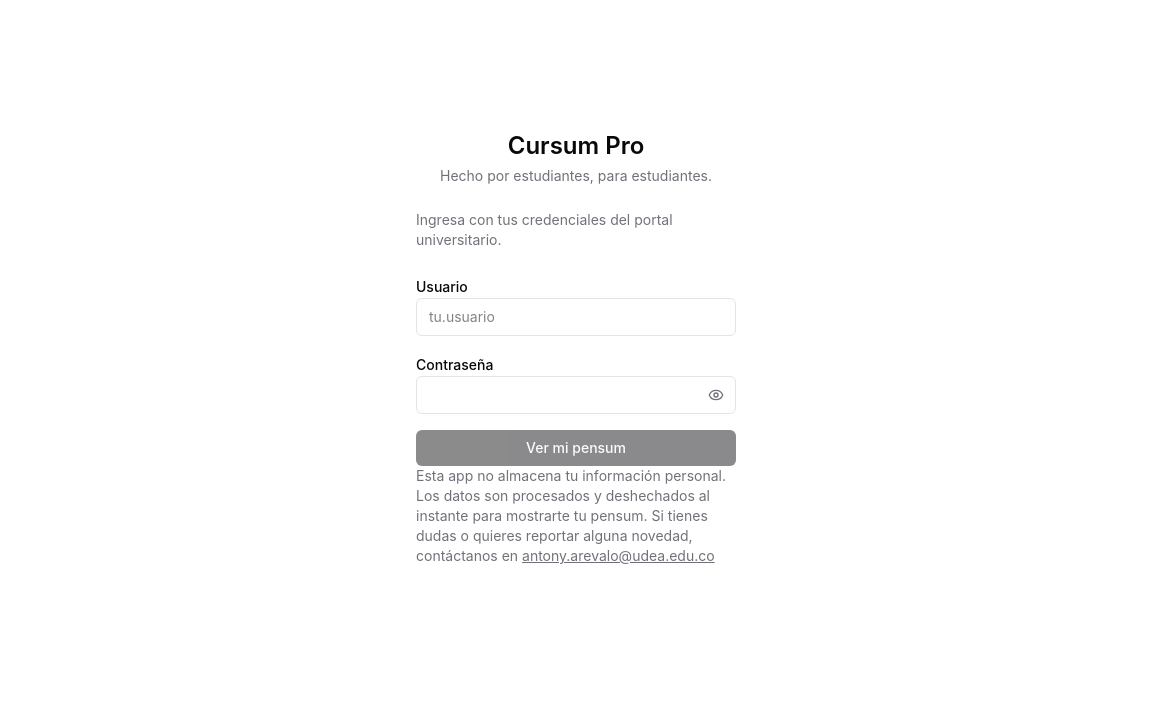
Test case: App › envía las credenciales al endpoint de streaming
The width and height of the screenshot is (1152, 718).
In the field with placeholder "tu.usuario": (576, 317) x1=416 y1=298 x2=736 y2=336, type "ana.prueba"
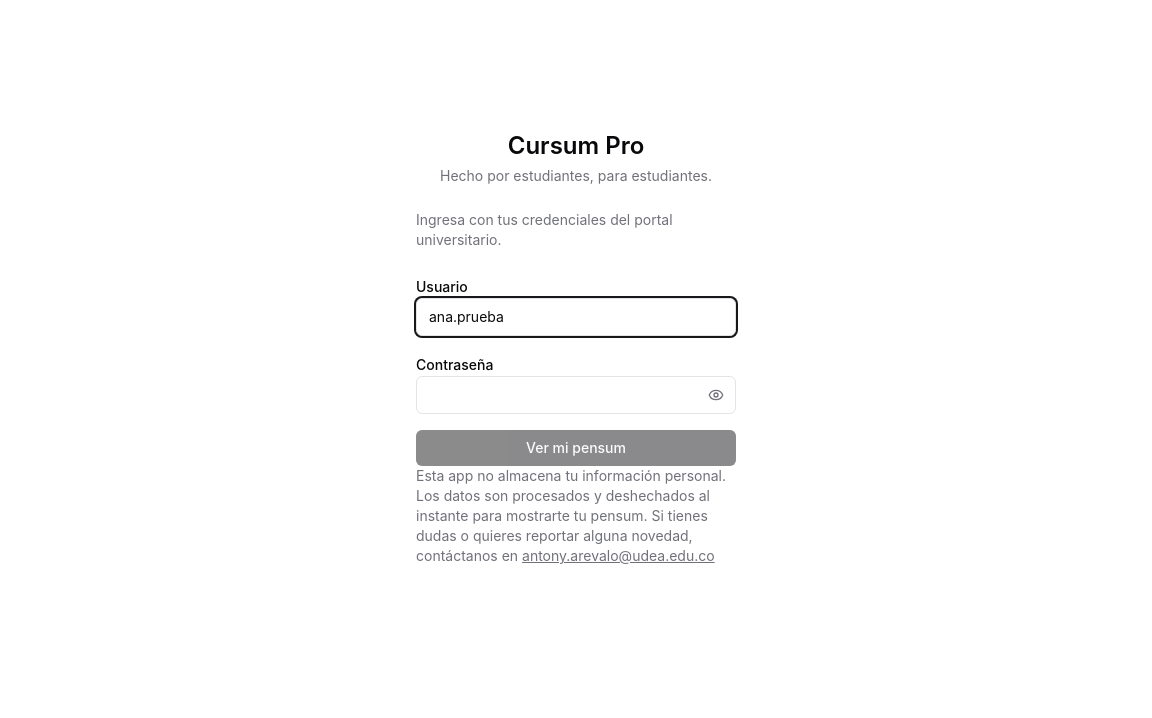
In the password field: (576, 395) x1=416 y1=376 x2=736 y2=414, type "Secreta123"
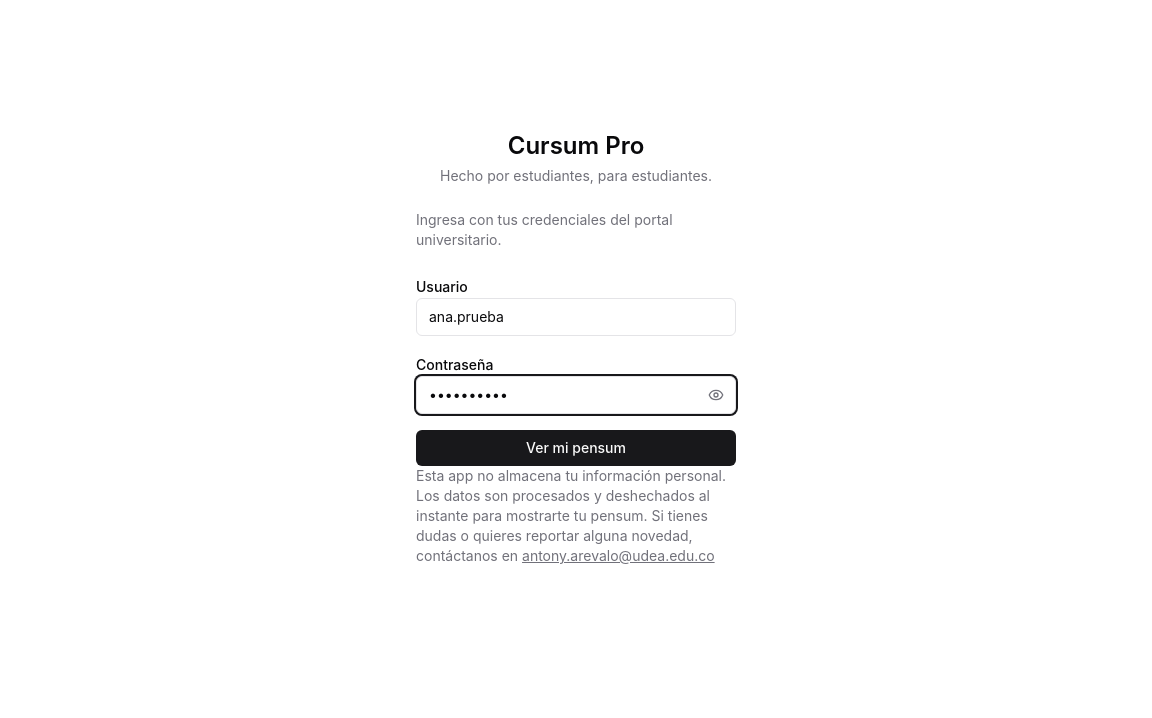
Click the button "Ver mi pensum": (576, 448) x1=416 y1=430 x2=736 y2=466
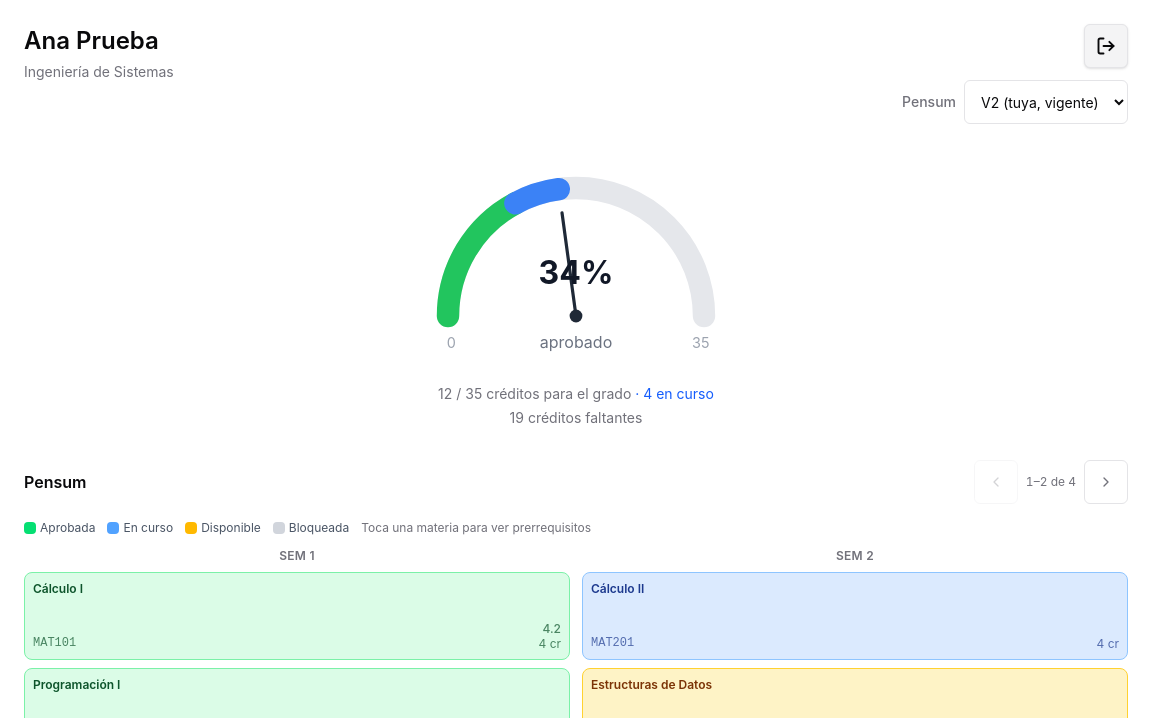
Expected: the icon named "Progreso: 34% aprobado" is shown, x1=416 y1=156 x2=736 y2=380
